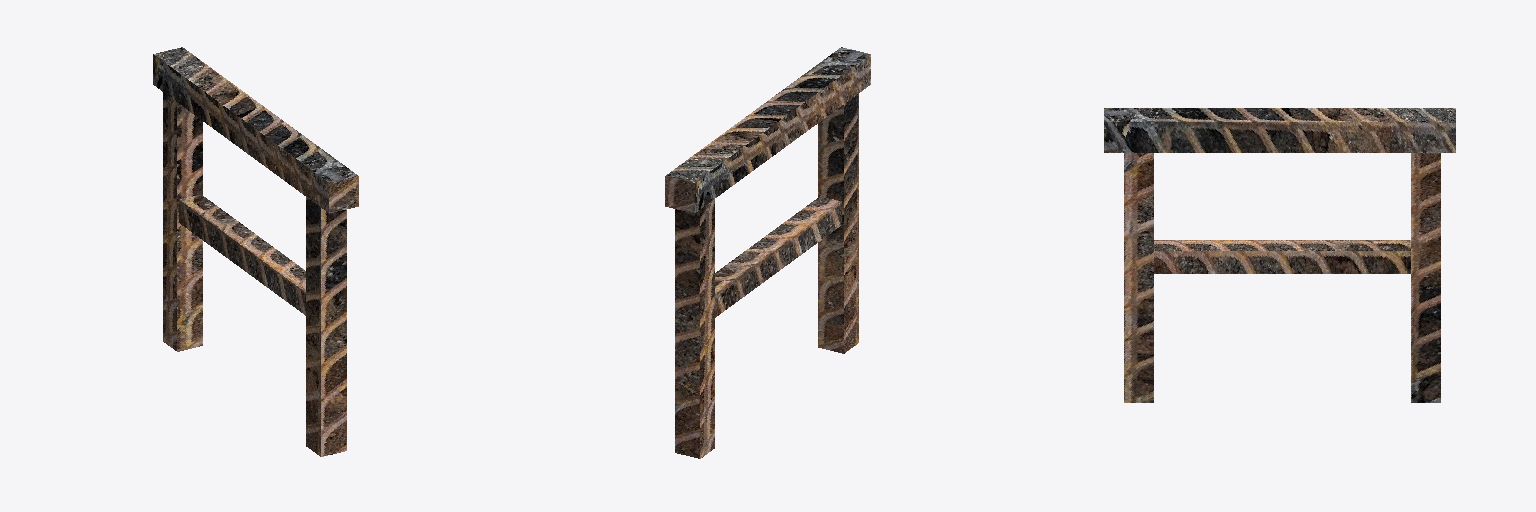
The picture shows the model from 3 angles: view 1: azimuth 30°, elevation 25°; view 2: azimuth 150°, elevation 25°; view 3: azimuth 270°, elevation 25°; orthographic projection.
Parts seen in each view (by area): view 1: Cube.001_Cube.002; view 2: Cube.001_Cube.002; view 3: Cube.001_Cube.002.
Part boxes in pixels (x1,y1,x2,y2): Cube.001_Cube.002: (153,47,358,456); Cube.001_Cube.002: (665,47,870,458); Cube.001_Cube.002: (1104,108,1455,402).
Bounding box in the file's own units: 0.1656 × 1.52 × 1.72.
1 materials, 1 textured.